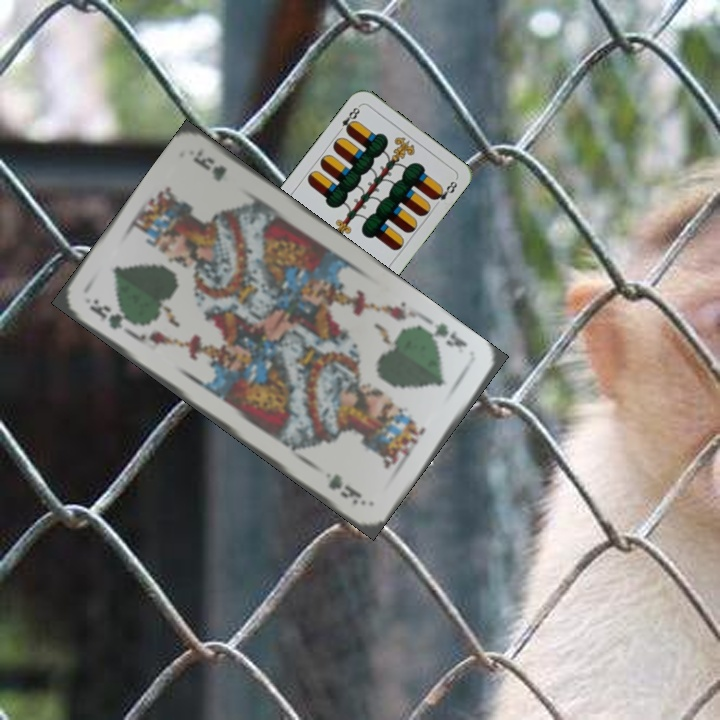E8: (334, 101, 363, 136)
GK: (84, 295, 138, 332), (422, 318, 470, 350)
